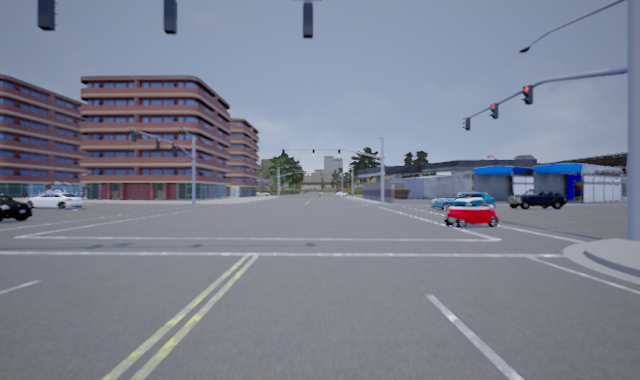traffic_light: (521, 84, 533, 105), (489, 102, 499, 120), (462, 115, 470, 132), (337, 148, 341, 156), (312, 149, 315, 157)
vehicle: (442, 197, 502, 227), (429, 191, 499, 213), (504, 188, 568, 210), (22, 190, 83, 210), (1, 189, 31, 224)
